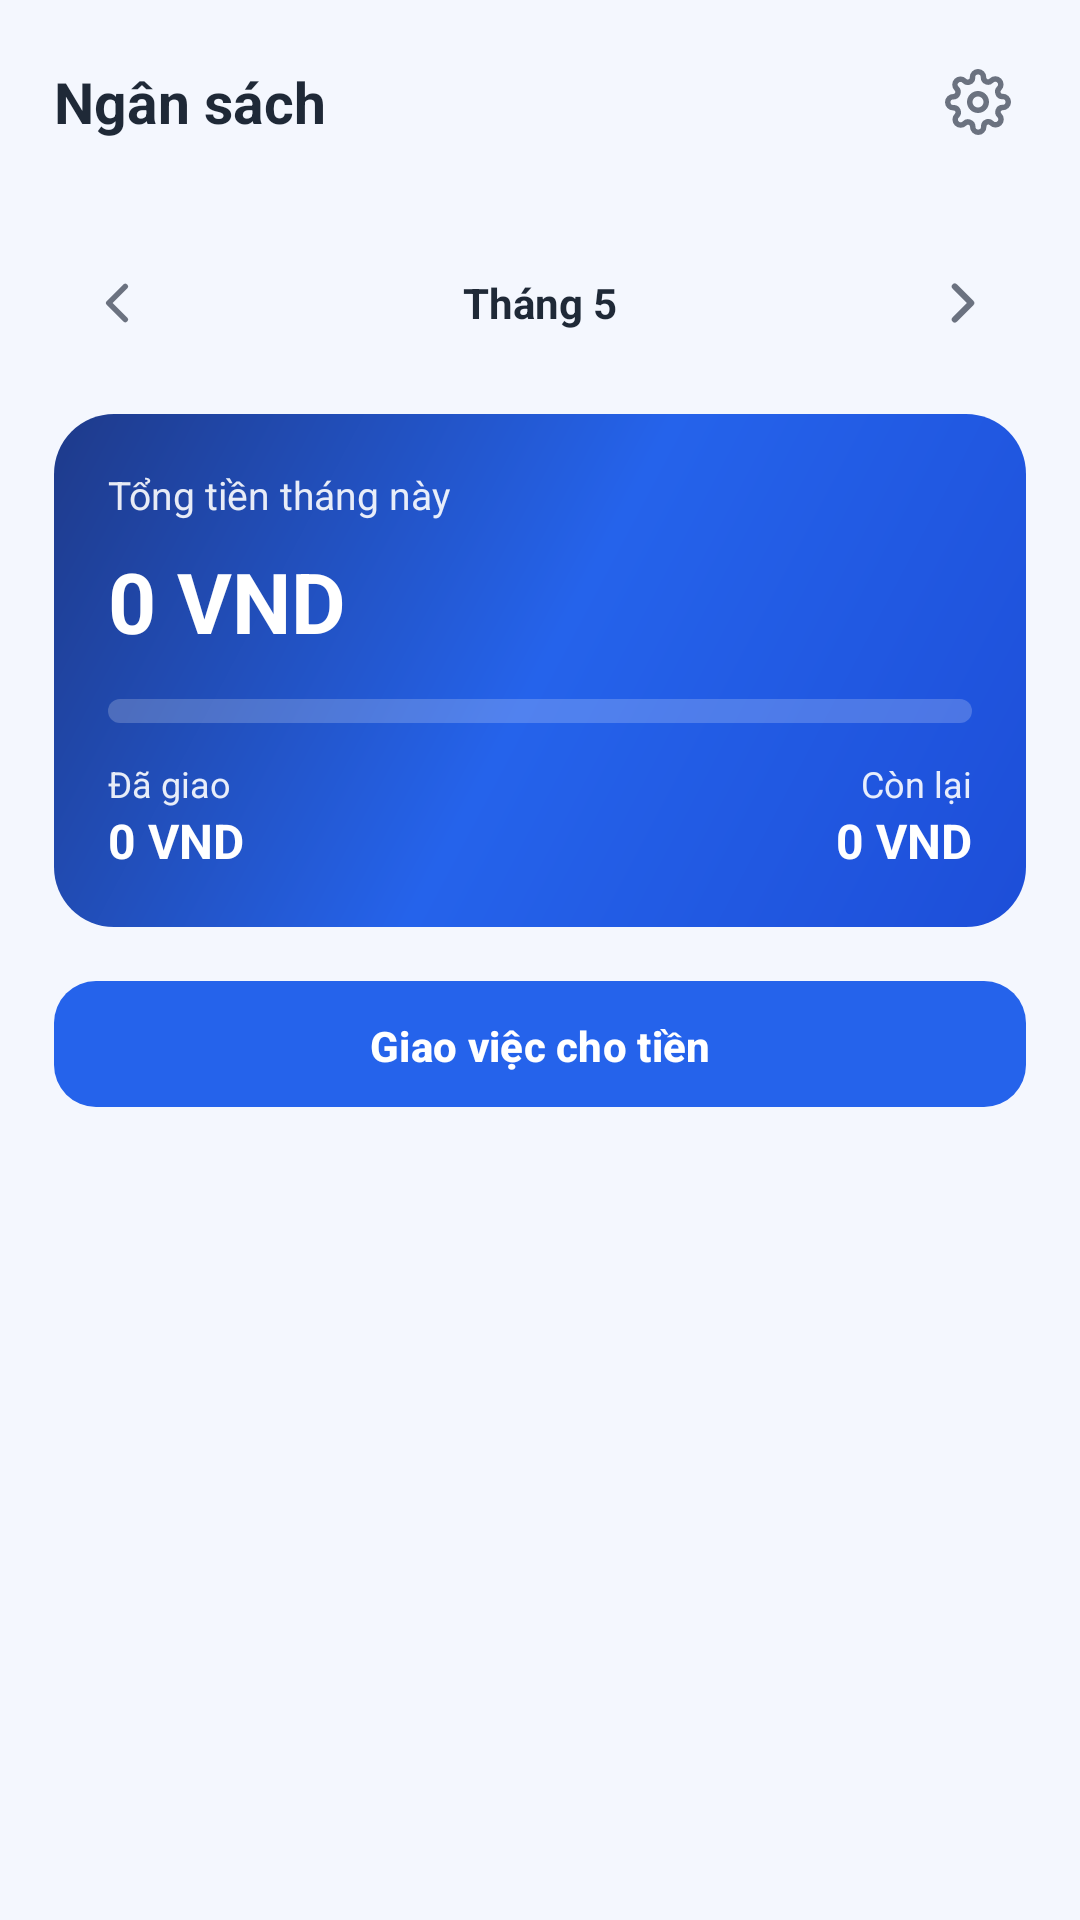

Icon bounding boxes for this 1080 x 1920 phone screenshot, format bbox=(x1, y1, x2, y2):
chevron left: bbox=(106, 283, 128, 323)
chevron right: bbox=(951, 283, 975, 323)
settings stroke: bbox=(945, 69, 1011, 135)
